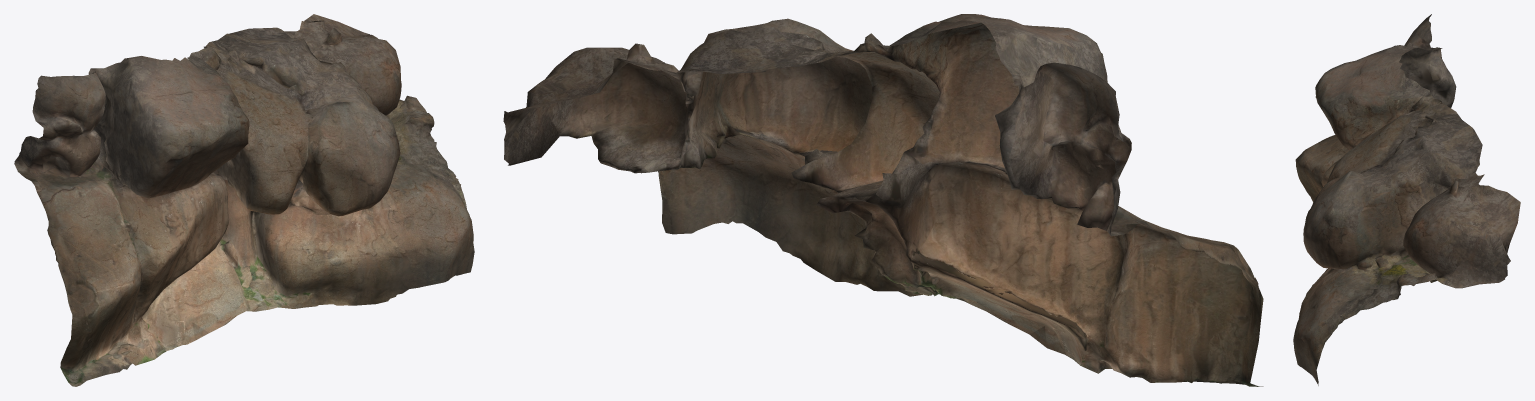
The model's file is cliff_ridge_01.glb.
The picture shows the model from 3 angles, left to right: view 1: azimuth 30°, elevation 25°; view 2: azimuth 150°, elevation 25°; view 3: azimuth 270°, elevation 25°; orthographic projection. The views are drawn at different scales.
Visible parts, largest first — view 1: cliff_ridge_01; view 2: cliff_ridge_01; view 3: cliff_ridge_01.
Part boxes in pixels (x1=…): cliff_ridge_01: x1=14, y1=14, x2=474, y2=386; cliff_ridge_01: x1=503, y1=14, x2=1263, y2=386; cliff_ridge_01: x1=1293, y1=14, x2=1520, y2=385.
Bounding box in the file's own units: 8.27 × 4.96 × 4.39.
Materials: 1 (1 with a texture image).
